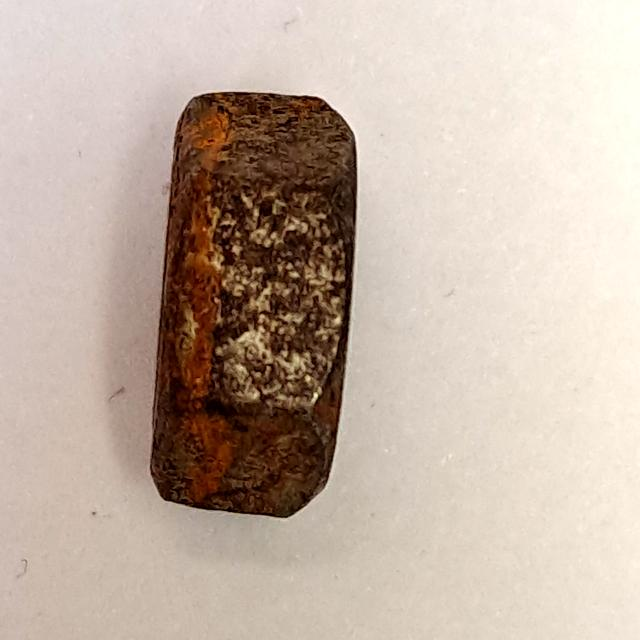Side_Rust: (137, 79, 378, 528)
